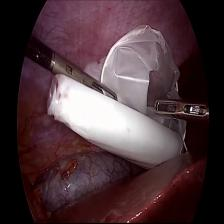Specimen Bag: (47, 32, 188, 164)
